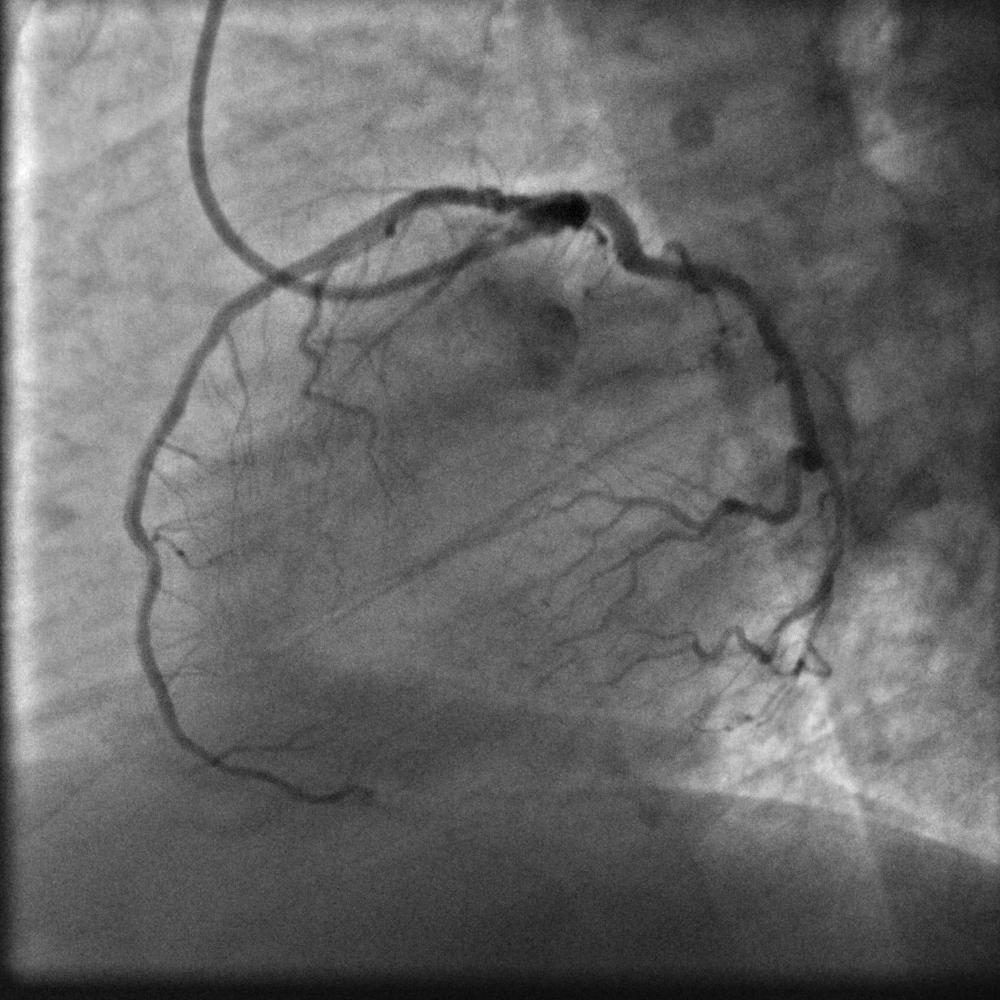Stenosis: (465, 184, 501, 208)
